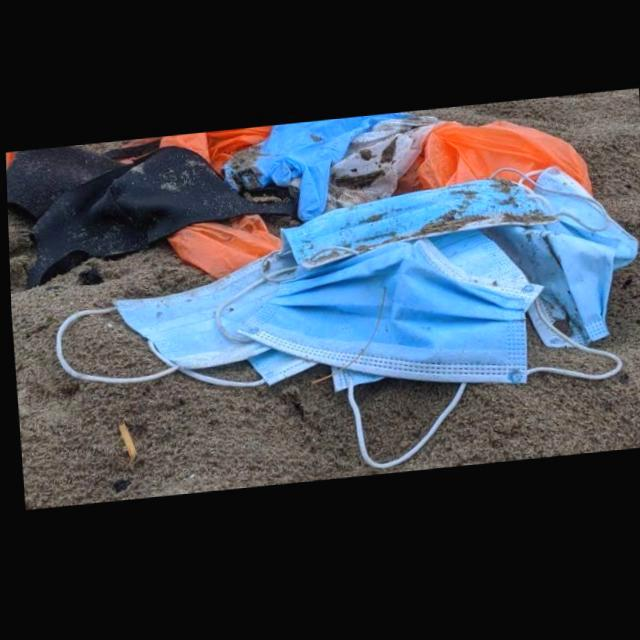plastic_bag: (415, 128, 591, 204)
